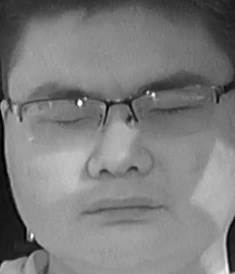blink: (146, 103, 193, 117), (48, 113, 90, 128)
glass: (129, 83, 218, 138), (19, 94, 110, 147)
mouth: (84, 194, 167, 226)
